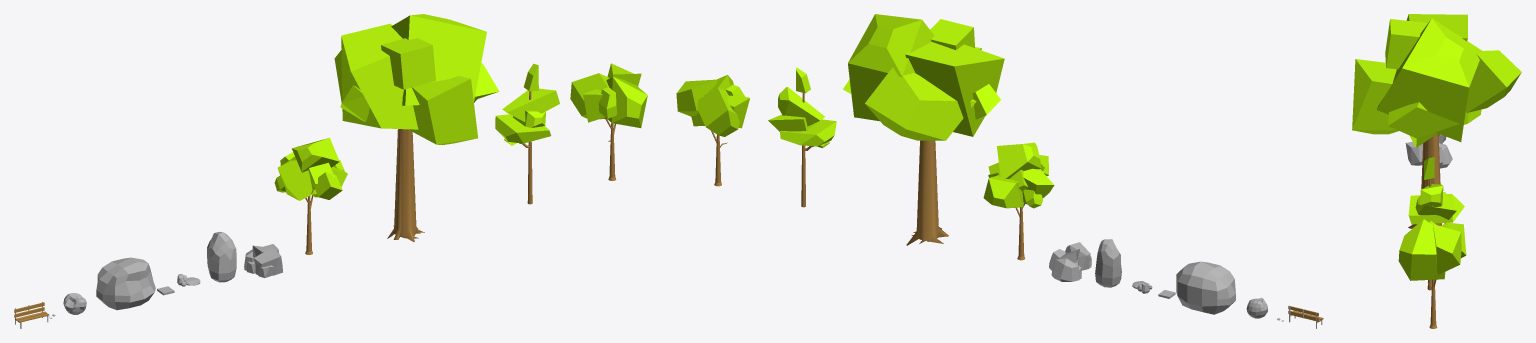
Rendered from low poly trees.fbx.
The picture shows the model from 3 angles, left to right: view 1: azimuth 30°, elevation 25°; view 2: azimuth 150°, elevation 25°; view 3: azimuth 270°, elevation 25°; orthographic projection.
Parts seen in each view (by area): view 1: Tree Foliage B, Tree Foliage D, Tree Foliage A, Tree Foliage C, Rock E, Tree Trunk B, Rock A, Rock B; view 2: Tree Foliage B, Tree Foliage A, Tree Foliage D, Tree Foliage C, Rock E, Tree Trunk B, Rock B, Rock A; view 3: Tree Foliage B, Tree Foliage D, Tree Foliage C, Tree Trunk B, Rock B, Tree Trunk D, Tree Foliage A.
Part boxes in pixels (bbox=[...]): Tree Foliage B: bbox=[334, 14, 499, 145]; Tree Foliage D: bbox=[570, 63, 647, 127]; Tree Foliage A: bbox=[274, 137, 347, 200]; Tree Foliage C: bbox=[495, 63, 559, 145]; Rock E: bbox=[96, 257, 155, 310]; Tree Trunk B: bbox=[387, 129, 424, 241]; Rock A: bbox=[207, 231, 236, 282]; Rock B: bbox=[244, 244, 282, 277]; Tree Foliage B: bbox=[843, 14, 1004, 140]; Tree Foliage A: bbox=[983, 142, 1054, 208]; Tree Foliage D: bbox=[676, 75, 749, 136]; Tree Foliage C: bbox=[768, 67, 836, 148]; Rock E: bbox=[1176, 261, 1235, 314]; Tree Trunk B: bbox=[906, 140, 948, 245]; Rock B: bbox=[1049, 242, 1091, 281]; Rock A: bbox=[1095, 239, 1121, 287]; Tree Foliage B: bbox=[1352, 14, 1521, 147]; Tree Foliage D: bbox=[1398, 219, 1466, 280]; Tree Foliage C: bbox=[1408, 157, 1464, 224]; Tree Trunk B: bbox=[1408, 133, 1441, 228]; Rock B: bbox=[1405, 141, 1452, 168]; Tree Trunk D: bbox=[1427, 279, 1437, 328]; Tree Foliage A: bbox=[1438, 109, 1481, 135].
Size of the model in its own units: 29006 by 9643 by 6843.
